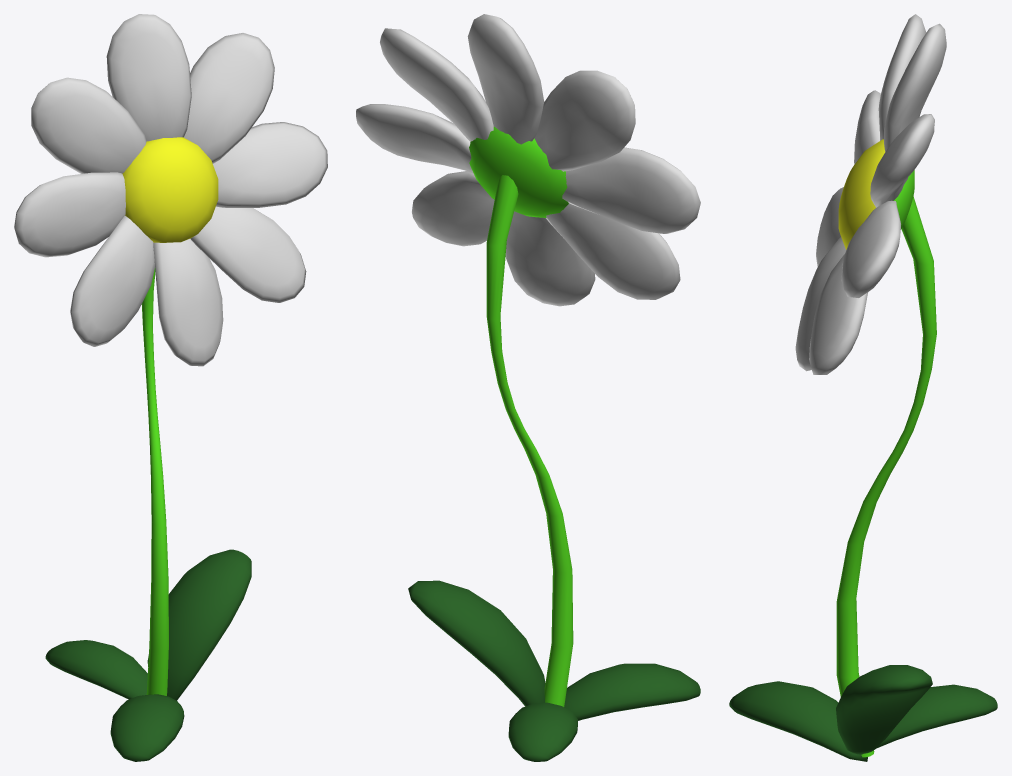
The model's file is Flower.fbx.
3 renders of one model, left to right at view 1: azimuth 30°, elevation 25°; view 2: azimuth 150°, elevation 25°; view 3: azimuth 270°, elevation 25°, orthographic. The views are drawn at different scales.
Parts seen in each view (by area): view 1: FLower; view 2: FLower; view 3: FLower.
Boxes of the visible parts, x1=… form: FLower: x1=14, y1=14, x2=327, y2=761; FLower: x1=356, y1=14, x2=700, y2=761; FLower: x1=729, y1=14, x2=997, y2=761.
Size of the model in its own units: 95.78 by 196 by 64.44.
